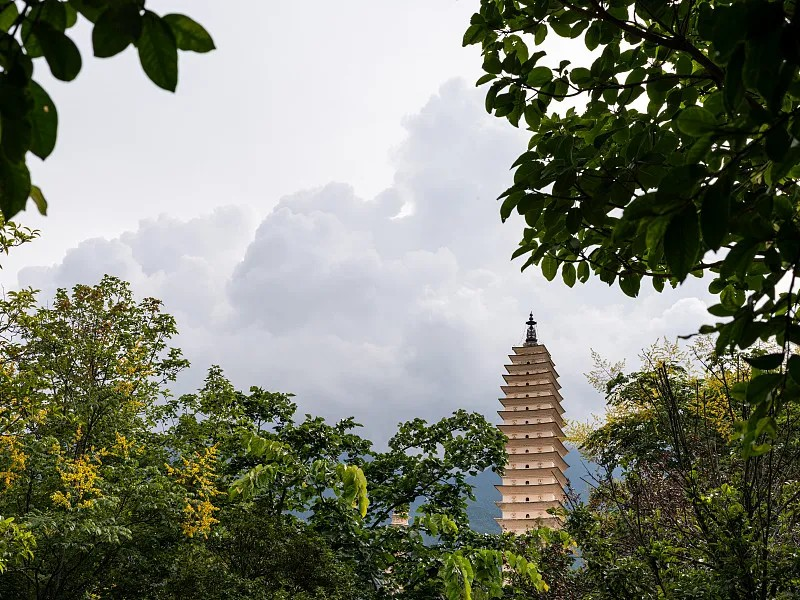ThreePagoda: (494, 312, 572, 537)
